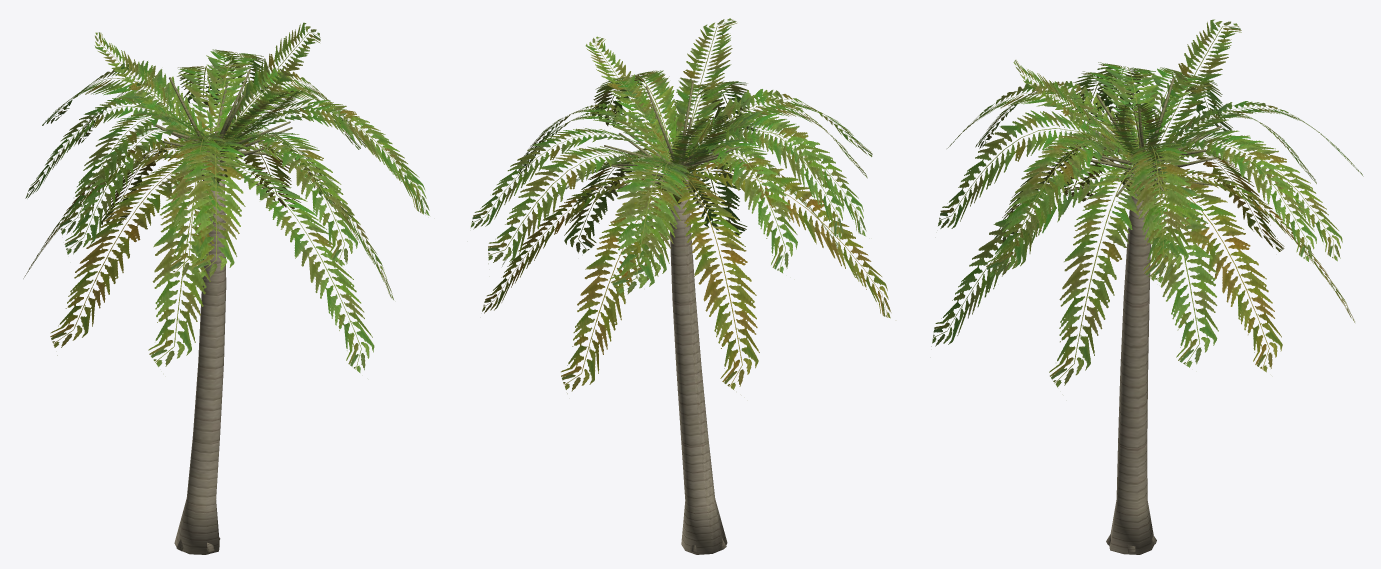
Rendered from Coconut_Palm.glb.
3 views of the same model, side by side, from view 1: azimuth 30°, elevation 25°; view 2: azimuth 150°, elevation 25°; view 3: azimuth 270°, elevation 25° (orthographic). The views are drawn at different scales.
Parts seen in each view (by area): view 1: Coconut_Palm; view 2: Coconut_Palm; view 3: Coconut_Palm.
Part boxes in pixels (box(x1,y1,x2,y2)): Coconut_Palm: box(23, 22, 429, 554); Coconut_Palm: box(471, 18, 891, 554); Coconut_Palm: box(931, 19, 1363, 554).
Size of the model in its own units: 7.81 by 10.5 by 8.27.
Materials: 2 (2 with a texture image).
